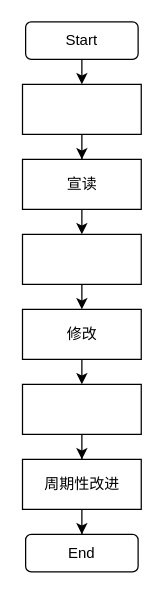
Image size: 163x594. Some labels were removed from this diagram. Here are the shapes that lost their labels. From the top down, the centre of each, then its label:
(81,108): 管理者定初稿
(81,258): 员工参与
(81,408): 定稿
